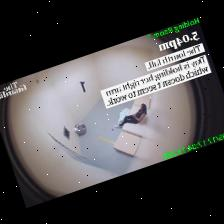person: (114, 104, 146, 128)
